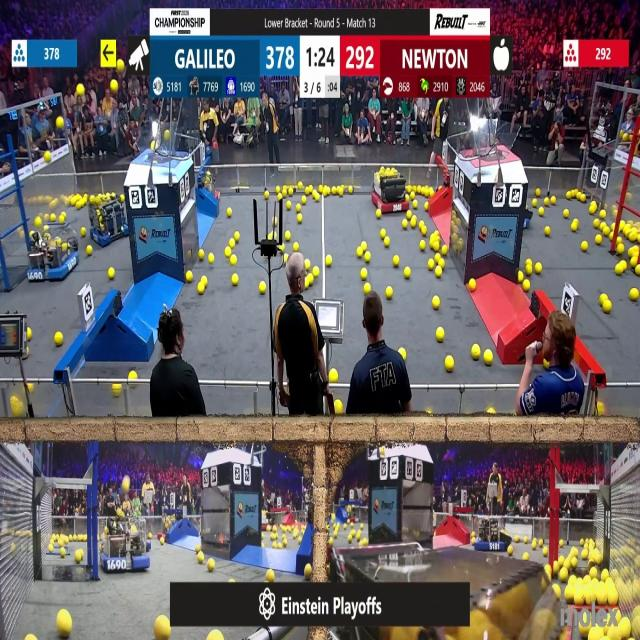ball_airborne: (158, 618, 172, 640), (122, 478, 130, 492), (76, 86, 84, 97), (110, 80, 117, 92), (116, 60, 123, 72), (58, 116, 64, 127), (44, 151, 50, 161), (165, 130, 171, 140), (150, 141, 155, 151)
ball_ground: (59, 612, 72, 638), (470, 346, 480, 360), (328, 370, 337, 384), (267, 568, 276, 582), (335, 400, 344, 414), (56, 333, 64, 348), (209, 631, 222, 640), (446, 356, 454, 370), (305, 564, 313, 578), (485, 351, 493, 365), (438, 328, 446, 342), (560, 568, 568, 582), (554, 585, 562, 599), (630, 288, 639, 300), (258, 281, 266, 294), (597, 404, 604, 418), (602, 302, 610, 314), (617, 264, 625, 276), (208, 559, 215, 572), (386, 286, 393, 298), (432, 296, 439, 308), (403, 268, 410, 280), (75, 550, 82, 562), (630, 256, 638, 266), (112, 384, 120, 394), (526, 263, 532, 276), (185, 272, 192, 283), (108, 269, 115, 280), (233, 275, 240, 286), (468, 280, 475, 291), (198, 553, 205, 564), (524, 280, 530, 292), (516, 272, 522, 284), (360, 270, 367, 280), (363, 283, 370, 293), (434, 268, 441, 278), (198, 284, 205, 294), (363, 252, 370, 262), (411, 218, 418, 228), (618, 244, 625, 254), (432, 242, 439, 252), (589, 205, 596, 215), (544, 565, 551, 575), (534, 264, 540, 275), (428, 261, 434, 272), (400, 348, 406, 359), (27, 328, 33, 339), (325, 255, 331, 266), (596, 235, 602, 246), (443, 245, 449, 256), (314, 267, 320, 278), (130, 370, 137, 379), (200, 277, 207, 286), (393, 256, 399, 266), (542, 360, 548, 370), (420, 241, 426, 251), (571, 220, 577, 230), (543, 225, 549, 235), (306, 279, 312, 289), (583, 242, 589, 252), (381, 230, 387, 240), (292, 240, 298, 250), (61, 549, 67, 559), (199, 250, 205, 260), (284, 232, 290, 242), (571, 558, 577, 568), (356, 247, 362, 257), (602, 225, 608, 235), (434, 253, 440, 263), (306, 261, 311, 272), (235, 233, 241, 242), (538, 207, 544, 216), (296, 214, 302, 223), (232, 255, 238, 264), (551, 197, 557, 206), (80, 229, 86, 238), (286, 201, 292, 210), (440, 258, 446, 267), (36, 217, 42, 226), (608, 232, 614, 241), (88, 246, 93, 256), (385, 238, 390, 248), (507, 544, 512, 554), (635, 267, 640, 277), (488, 409, 495, 416), (564, 210, 570, 218), (195, 542, 201, 550), (524, 553, 530, 561), (348, 535, 354, 543), (28, 634, 36, 640), (314, 192, 320, 200), (362, 536, 368, 544), (231, 240, 237, 248), (594, 220, 600, 228), (303, 197, 309, 205), (377, 210, 382, 219), (226, 208, 231, 217), (209, 253, 214, 262), (402, 219, 407, 228), (361, 242, 366, 251), (532, 540, 537, 549), (422, 226, 427, 235), (600, 210, 605, 219), (357, 534, 362, 543), (331, 186, 336, 195), (534, 188, 540, 195), (348, 186, 354, 193), (515, 535, 521, 542), (276, 186, 282, 193), (278, 541, 284, 548), (224, 248, 229, 256), (532, 200, 537, 208), (424, 203, 429, 211), (413, 201, 418, 209), (408, 210, 413, 218), (600, 293, 605, 301), (269, 234, 274, 242), (542, 549, 547, 557), (61, 214, 66, 222), (283, 538, 288, 546), (579, 195, 584, 203), (76, 202, 81, 210), (48, 544, 53, 552), (411, 190, 416, 198), (272, 532, 277, 540), (453, 234, 458, 242), (296, 204, 300, 213), (231, 577, 237, 583), (340, 187, 344, 196), (50, 214, 55, 221), (524, 536, 529, 543), (288, 188, 293, 195), (470, 537, 475, 544), (617, 237, 622, 244), (284, 254, 288, 262), (544, 199, 548, 207), (278, 194, 282, 202), (566, 194, 570, 202), (275, 233, 279, 241), (538, 539, 542, 547), (259, 542, 264, 548), (427, 411, 432, 417), (266, 191, 270, 198), (273, 541, 277, 548), (280, 245, 284, 252), (275, 217, 279, 224), (560, 539, 564, 546), (162, 538, 166, 544), (329, 538, 333, 544), (344, 524, 348, 530), (360, 524, 363, 530), (149, 535, 152, 541)
goal: (465, 121, 521, 160), (128, 128, 190, 162)
robot_blue: (28, 223, 80, 282), (101, 516, 149, 573), (90, 193, 130, 247), (477, 517, 508, 552), (197, 172, 222, 205)
robot_red: (371, 164, 407, 212), (159, 513, 183, 540), (262, 512, 280, 531)
